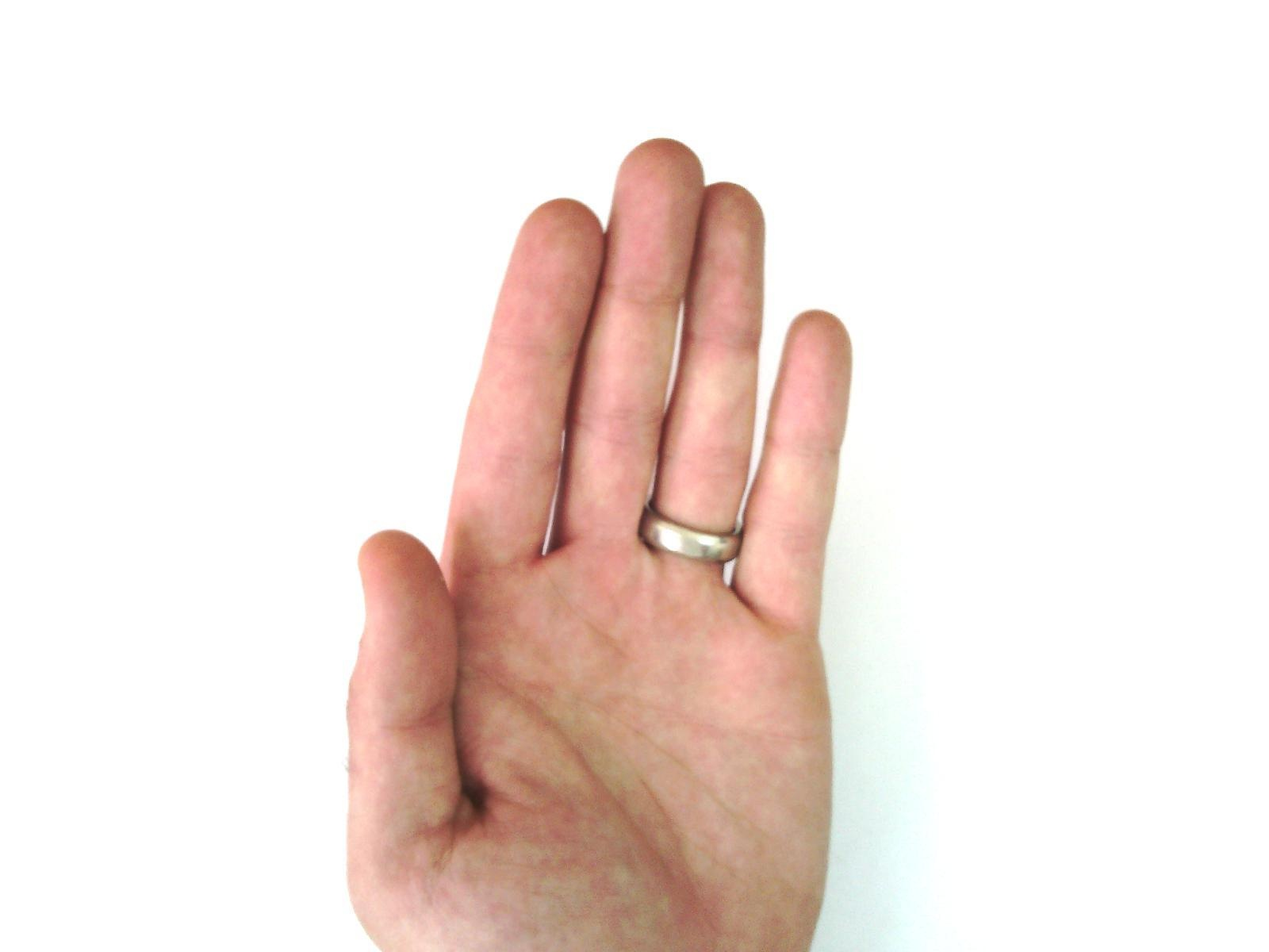open_palm: (342, 137, 857, 951)
